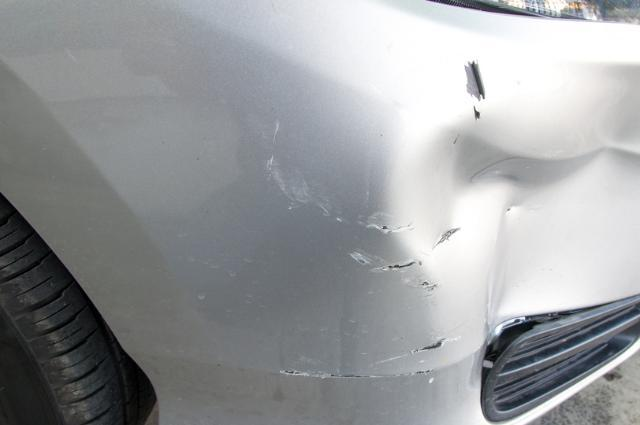Bumper: (186, 36, 620, 425)
